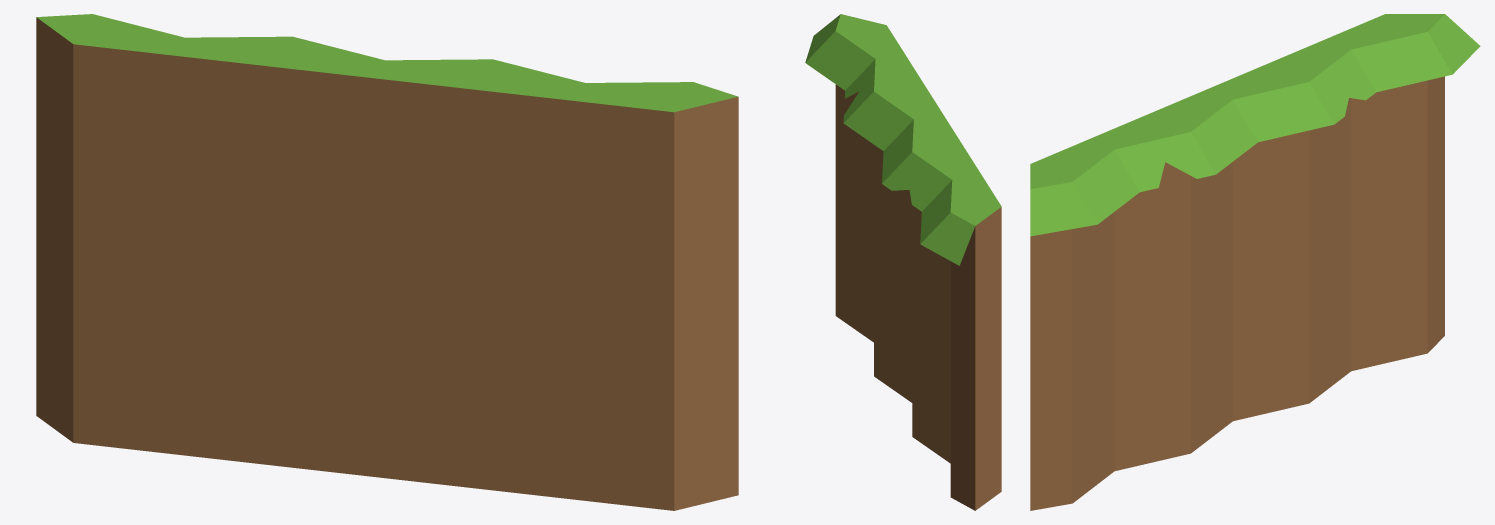
Rendered from cliff_topDiagonal_rock.glb.
3 renders of one model, left to right at view 1: azimuth 30°, elevation 25°; view 2: azimuth 150°, elevation 25°; view 3: azimuth 270°, elevation 25°, orthographic. The views are drawn at different scales.
Parts seen in each view (by area): view 1: cliff_topDiagonal_rock; view 2: cliff_topDiagonal_rock; view 3: cliff_topDiagonal_rock.
Part boxes in pixels (bbox=[...]): cliff_topDiagonal_rock: bbox=[36, 14, 738, 510]; cliff_topDiagonal_rock: bbox=[805, 14, 1001, 510]; cliff_topDiagonal_rock: bbox=[1030, 14, 1480, 510].
Bounding box in the file's own units: 1.27 × 1 × 1.27.
